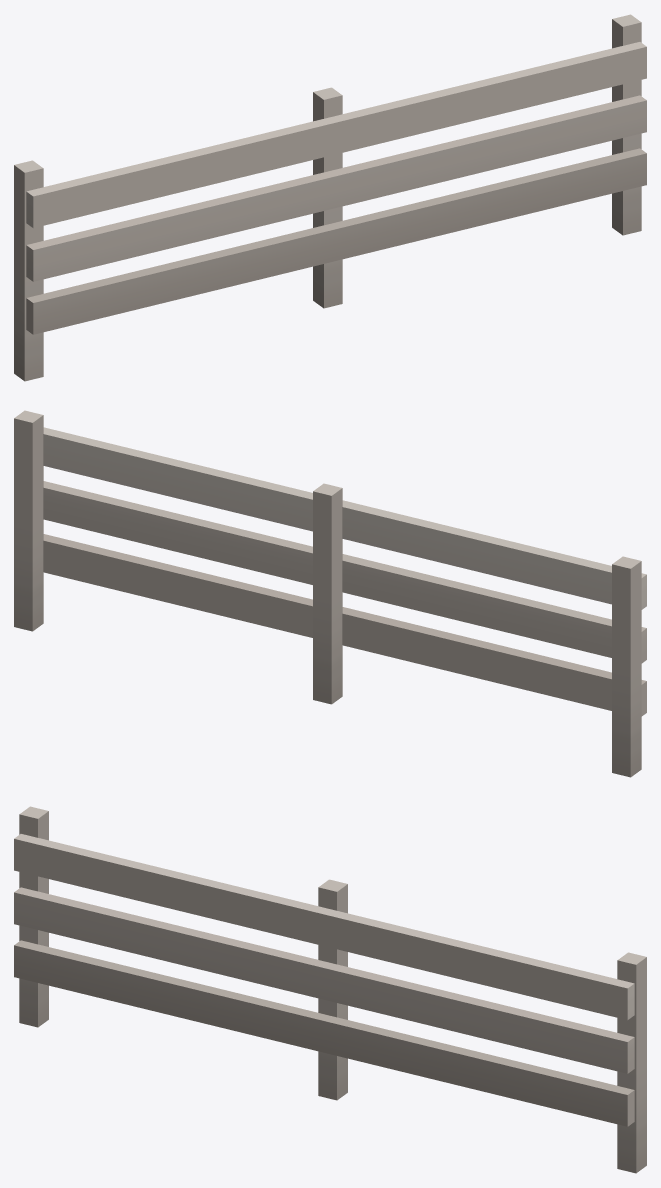
Rendered from Farm Fence.fbx.
3 renders of one model, top to bottom at view 1: azimuth 30°, elevation 25°; view 2: azimuth 150°, elevation 25°; view 3: azimuth 330°, elevation 25°, orthographic.
Visible parts, largest first — view 1: Farm_Fence; view 2: Farm_Fence; view 3: Farm_Fence.
Boxes of the visible parts, x1,y1,x2,y2 form: Farm_Fence: (14, 14, 646, 381); Farm_Fence: (14, 410, 646, 777); Farm_Fence: (14, 806, 646, 1173).
Bounding box in the file's own units: 217 × 70.03 × 10.78.
